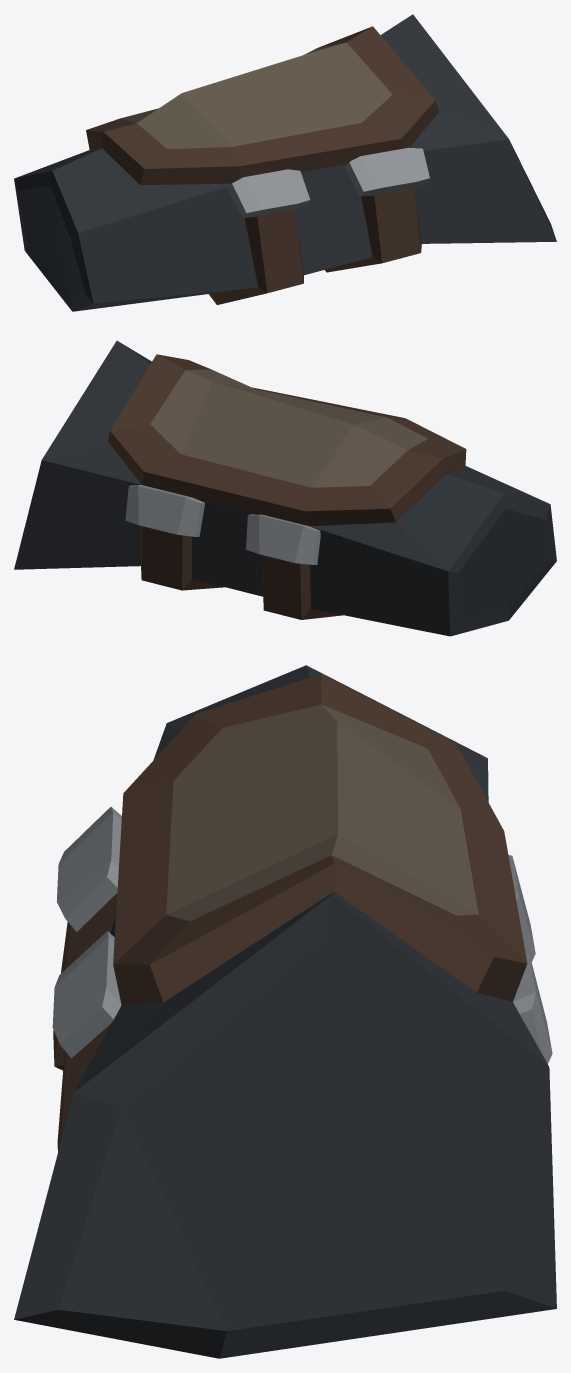
Rendered from Chr_ArmUpperRight_Male_09_Static.fbx.
The picture shows the model from 3 angles, top to bottom: view 1: azimuth 30°, elevation 25°; view 2: azimuth 150°, elevation 25°; view 3: azimuth 270°, elevation 25°; orthographic projection. The views are drawn at different scales.
Visible parts, largest first — view 1: Chr_ArmUpperRight_Male_09_Static; view 2: Chr_ArmUpperRight_Male_09_Static; view 3: Chr_ArmUpperRight_Male_09_Static.
Boxes of the visible parts, left/top/right/bottom form: Chr_ArmUpperRight_Male_09_Static: left=14, top=14, right=556, bottom=311; Chr_ArmUpperRight_Male_09_Static: left=14, top=340, right=556, bottom=636; Chr_ArmUpperRight_Male_09_Static: left=14, top=665, right=556, bottom=1358.
Bounding box in the file's own units: 0.3255 × 0.1563 × 0.1736.
